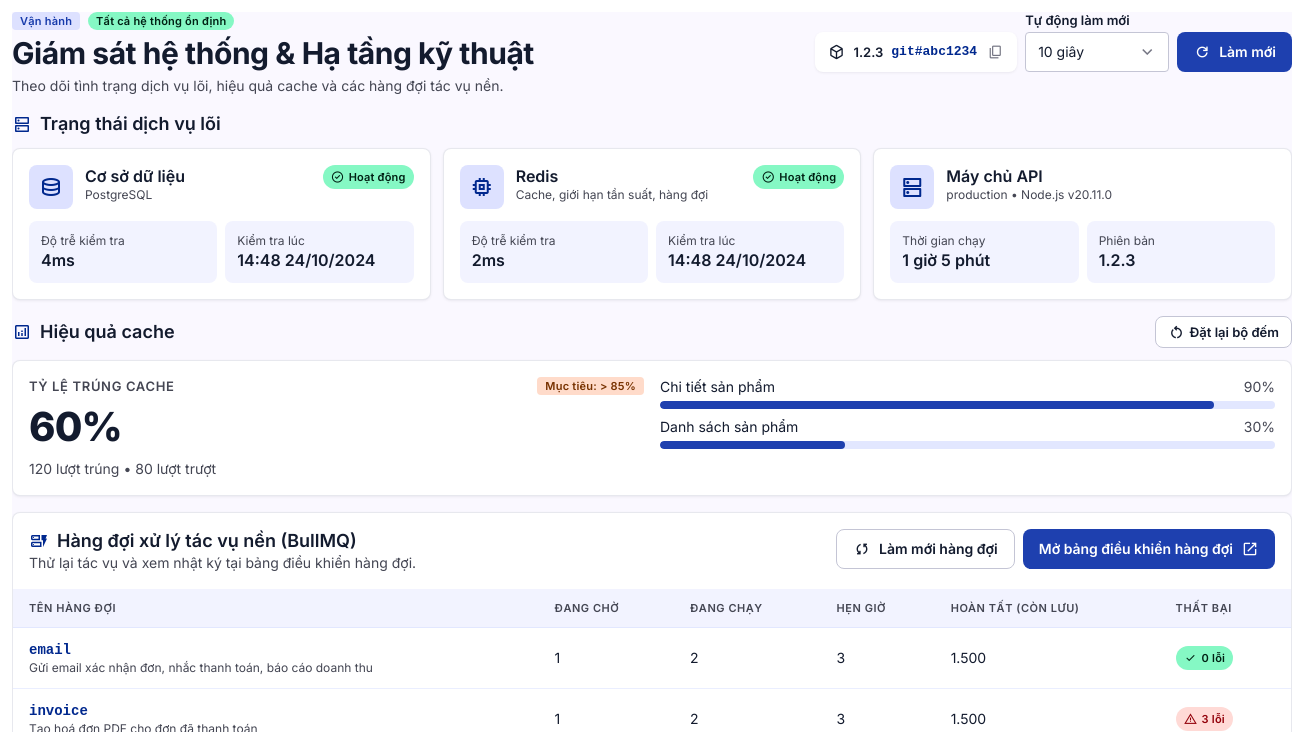
Test: SystemMonitorPage › mở Bull Board lỗi → đóng tab trống, báo lỗi
Expected: the text "invoice" is shown, [29,703,88,719]
Click the button "Mở bảng điều khiển hàng đợi" at [1149, 549], box [1023,529,1275,569]
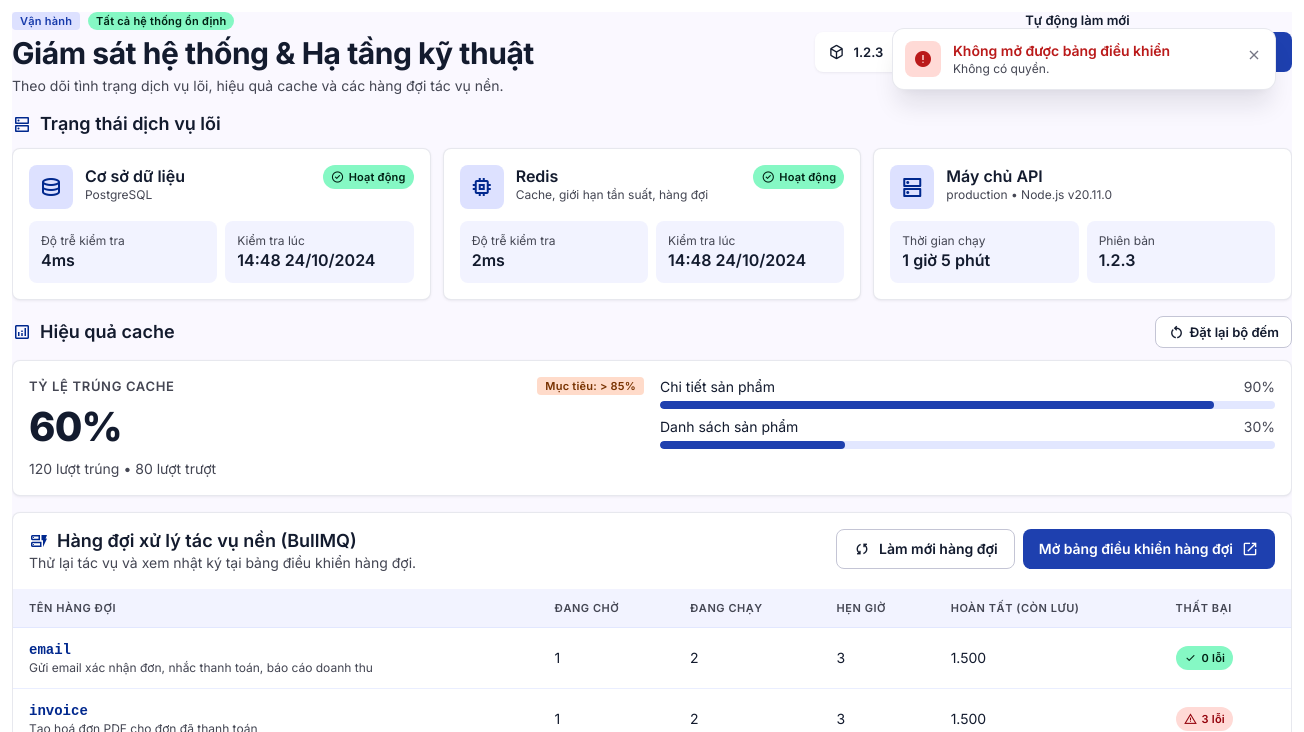
Result: the text "Không mở được bảng điều khiển" is shown at [953,42,1170,59]
